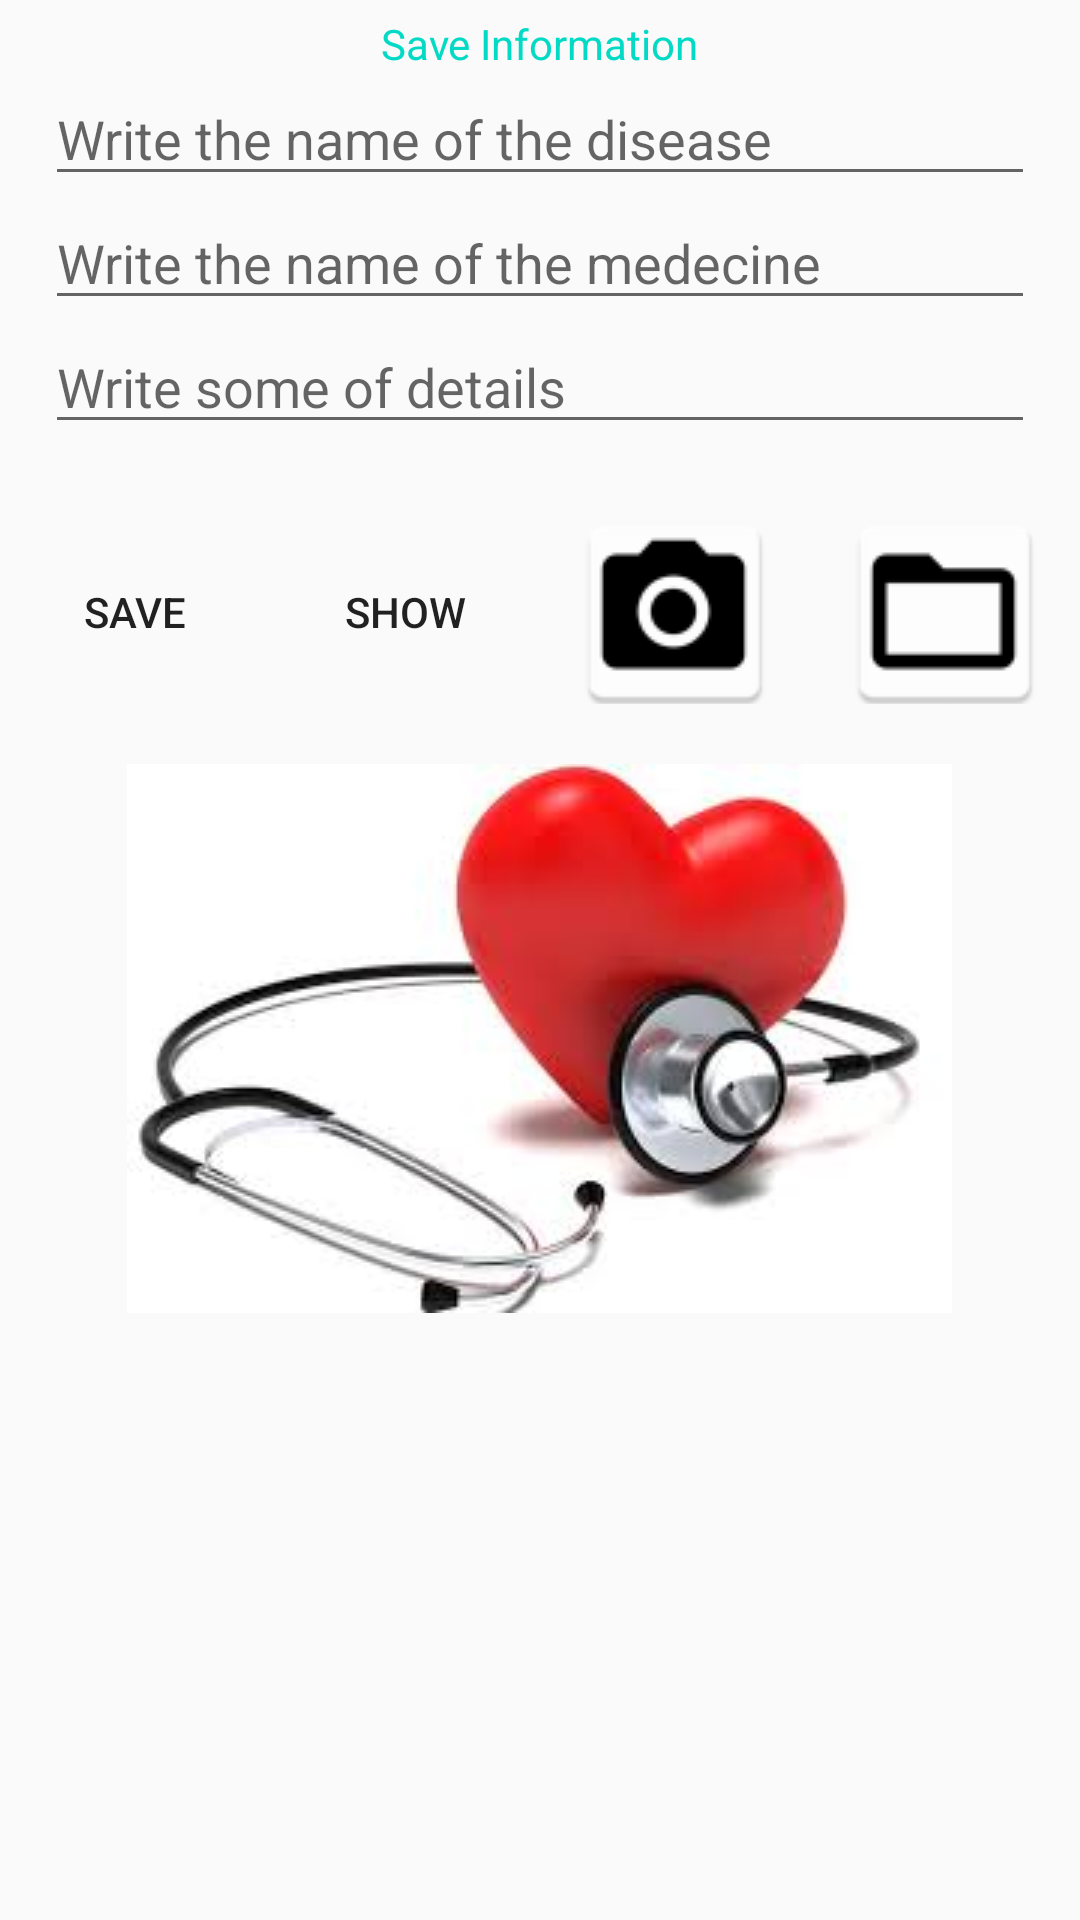

Named icons in this screenshot (1080x1920) and their centers, (x=x, y=y):
camera: (x=676, y=621)
file: (x=946, y=624)
